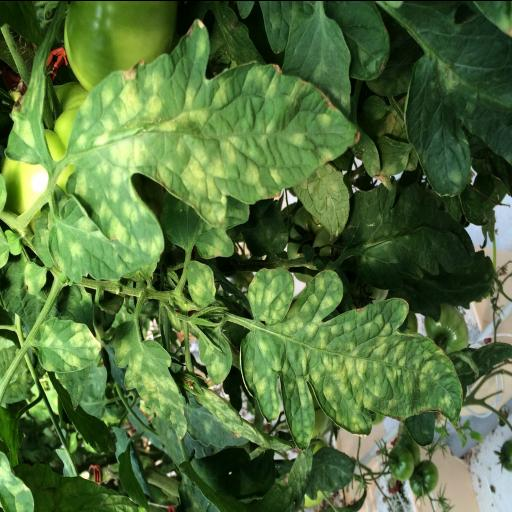Leaf Mold: (69, 18, 357, 246), (240, 268, 466, 448), (112, 300, 190, 440), (42, 188, 122, 282), (37, 318, 107, 374)
